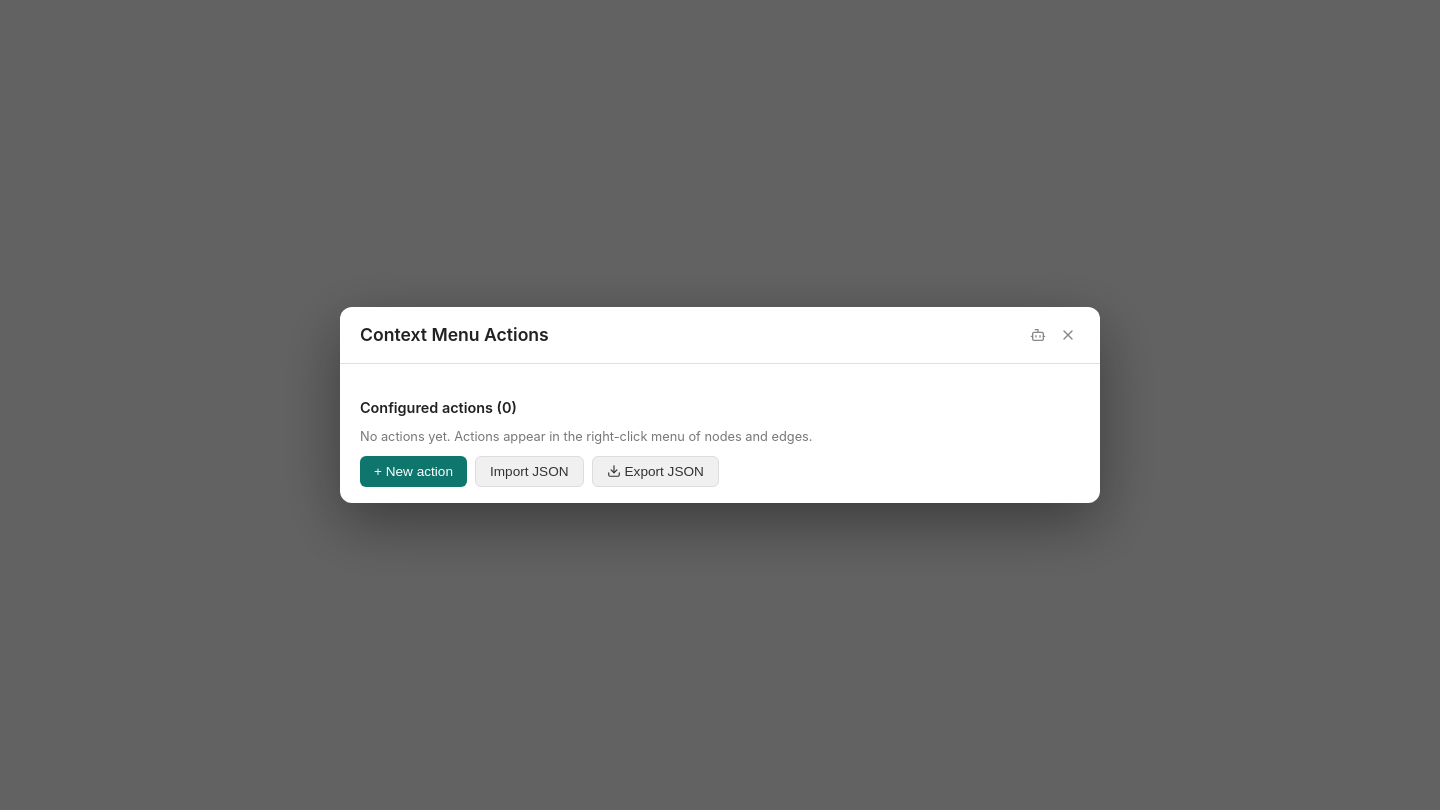
Test: ContextMenuActionsModal — export / import › shows a parse error and blocks the import button on junk
Step 1. Click the button "Import JSON" → point(529, 471), box top-left (475, 456), bottom-right (584, 487)
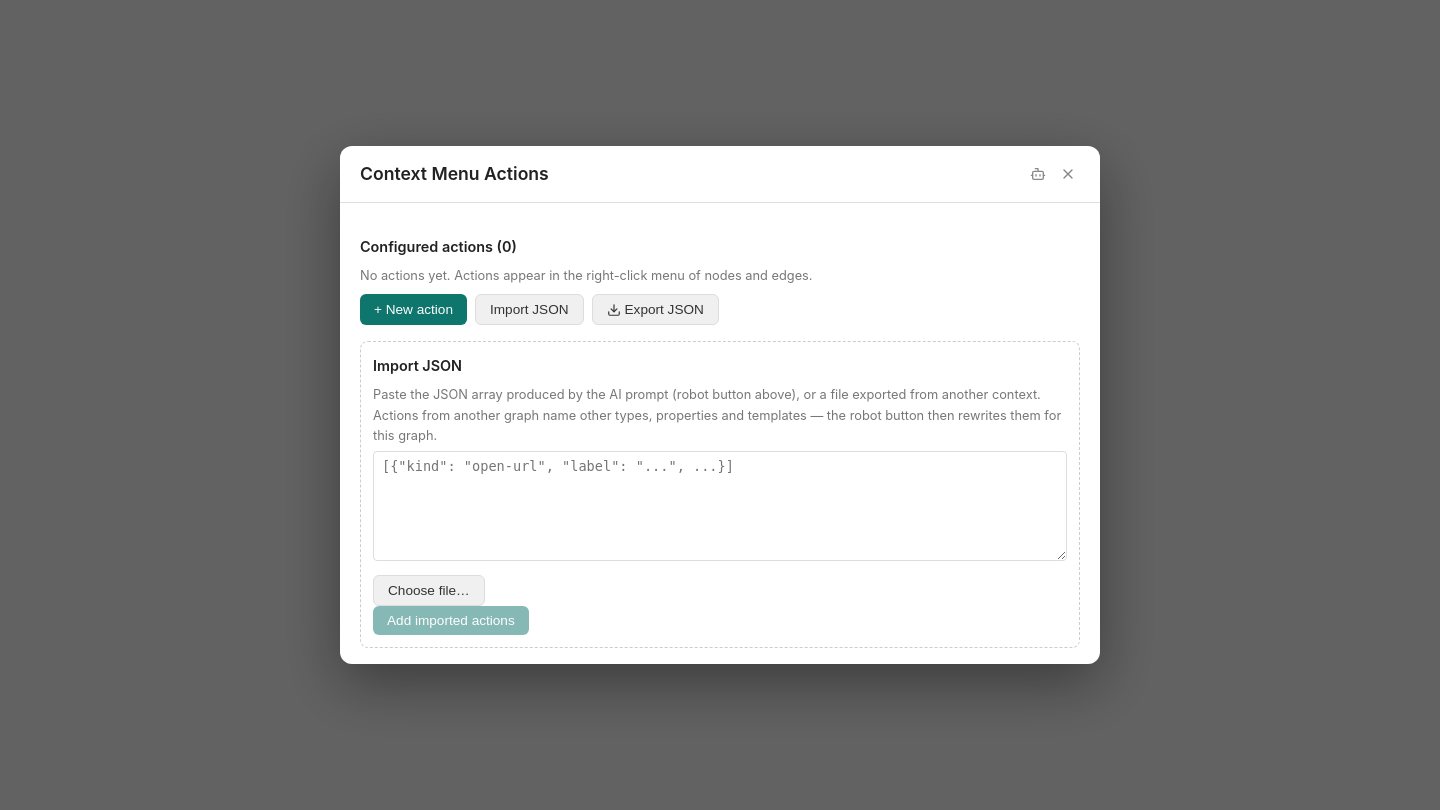
Step 2. Type "[oops" into the text box with placeholder "[{\"kind\": \"open-url\", \"label\": \"...\", ...}]" → point(720, 506), box top-left (373, 451), bottom-right (1067, 561)
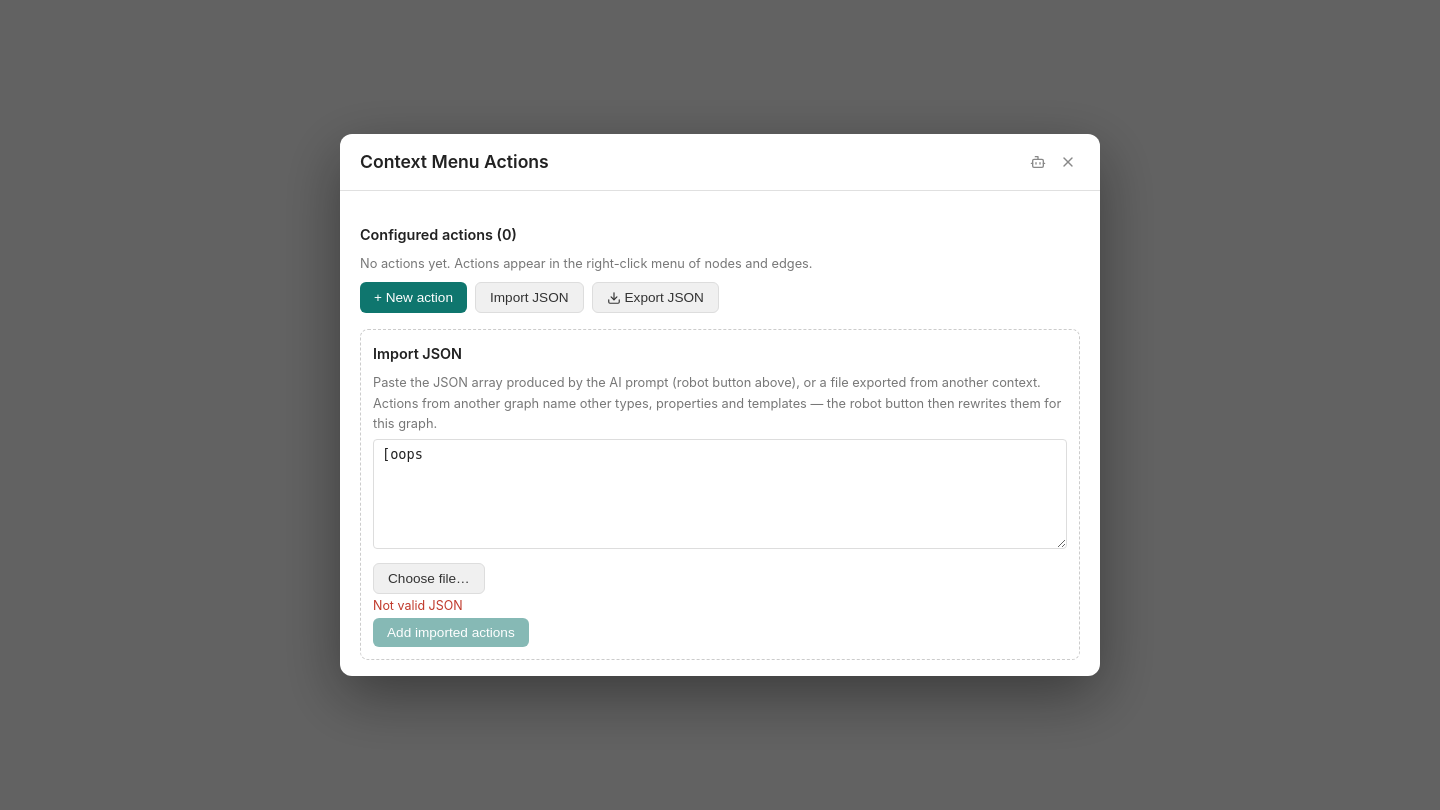
Expected: the text "Not valid JSON" is shown, top-left (373, 598), bottom-right (463, 613)
